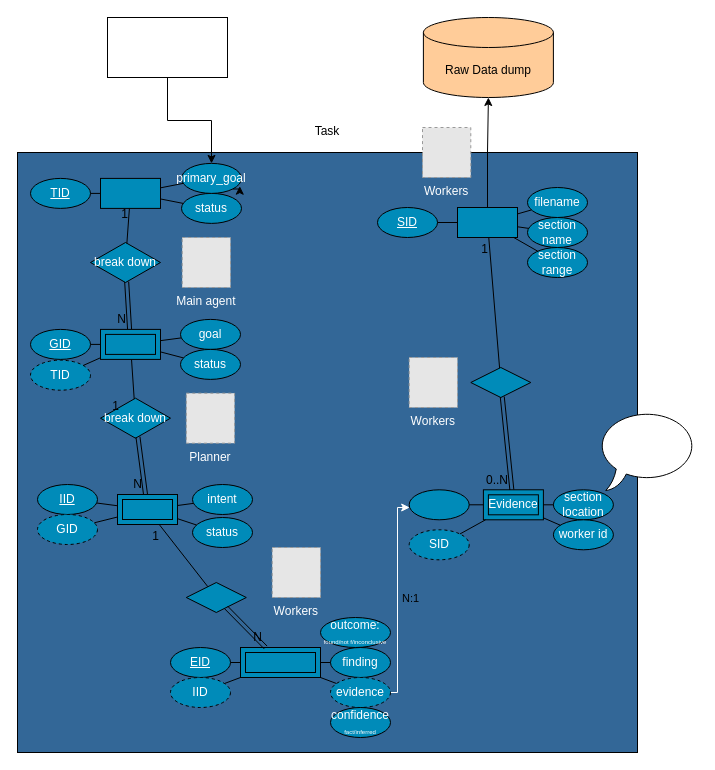
This 715x770 diagram has some shape labels left out. Grey dashed boxes stand in for pictures. Each missing label, with the centre of its shape:
Exploration: [280,662]
explore: [215,597]
FID: [438,504]
Goals: [130,343]
Intents: [147,509]
point: [500,382]
Sections: [487,222]
sources(id, url, fetched_at, tool, content_hash): [647,450]
Tasks: [130,192]
User: [167,47]
